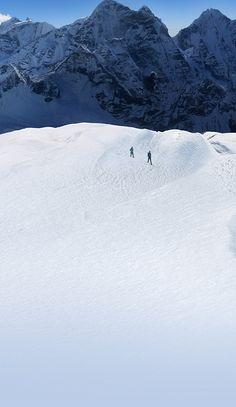mountain: (8, 13, 232, 124)
